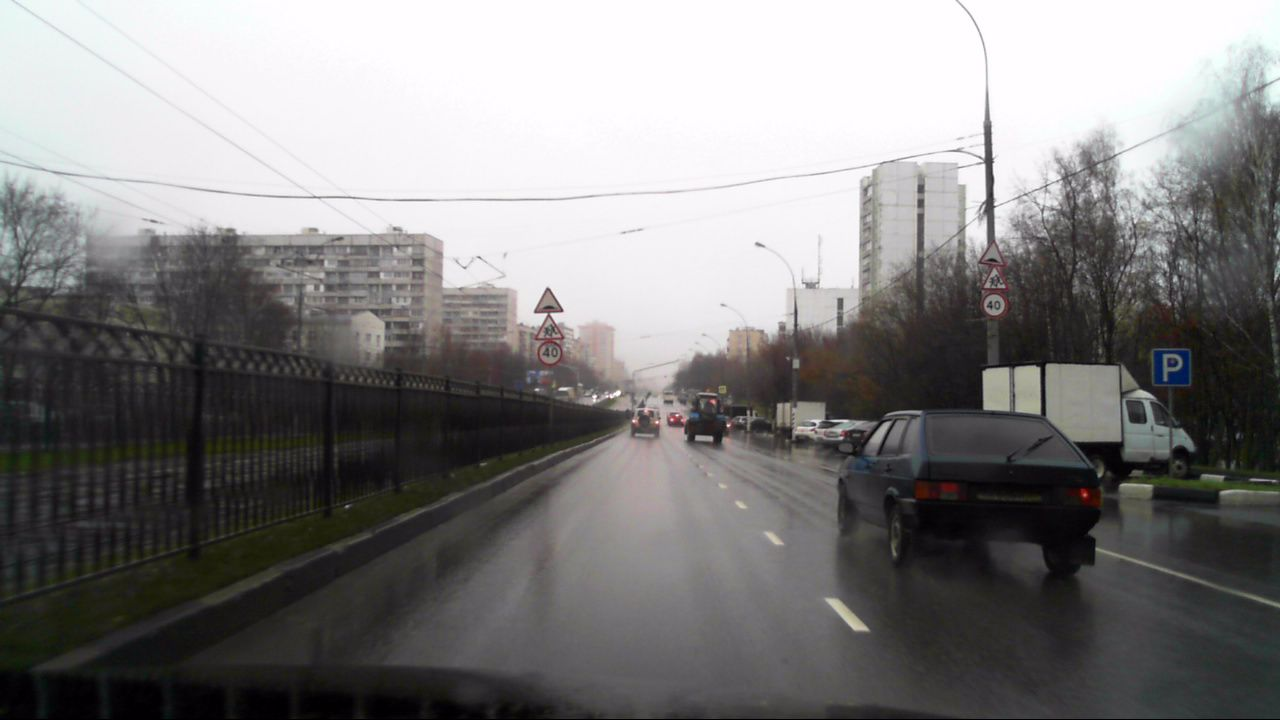speed_warning_40: (537, 340, 562, 364)
